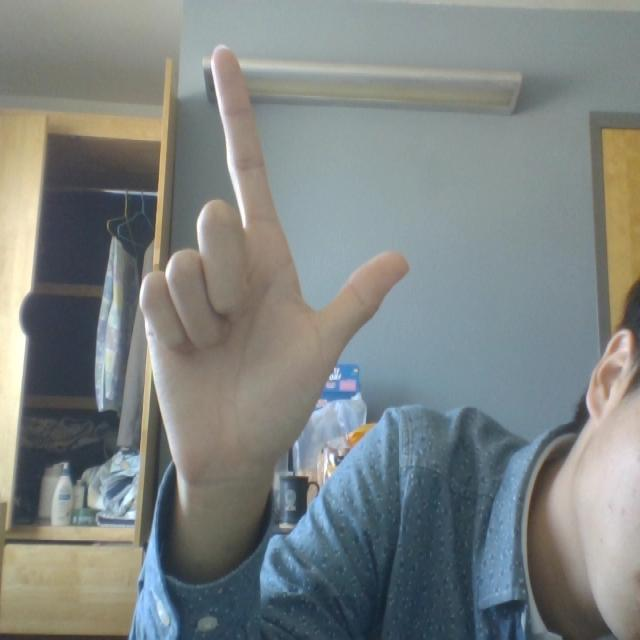L: (118, 22, 415, 524)
